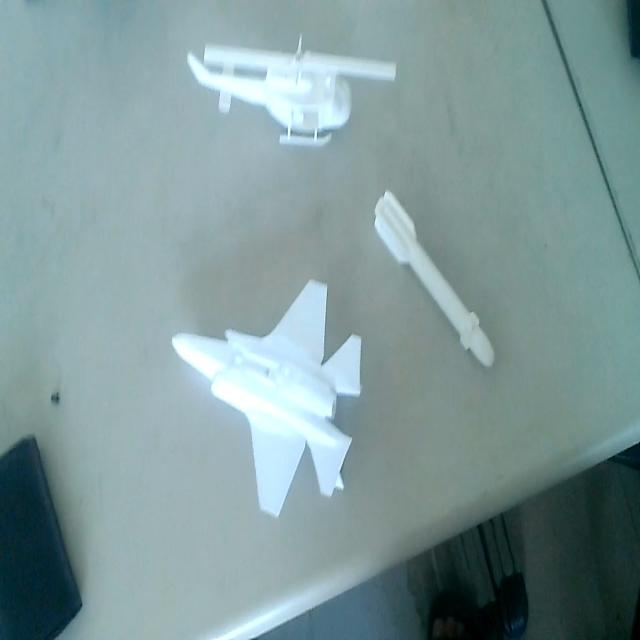Helicopter: (183, 29, 398, 155)
Jet: (164, 275, 364, 528)
Rocket: (372, 182, 498, 372)
